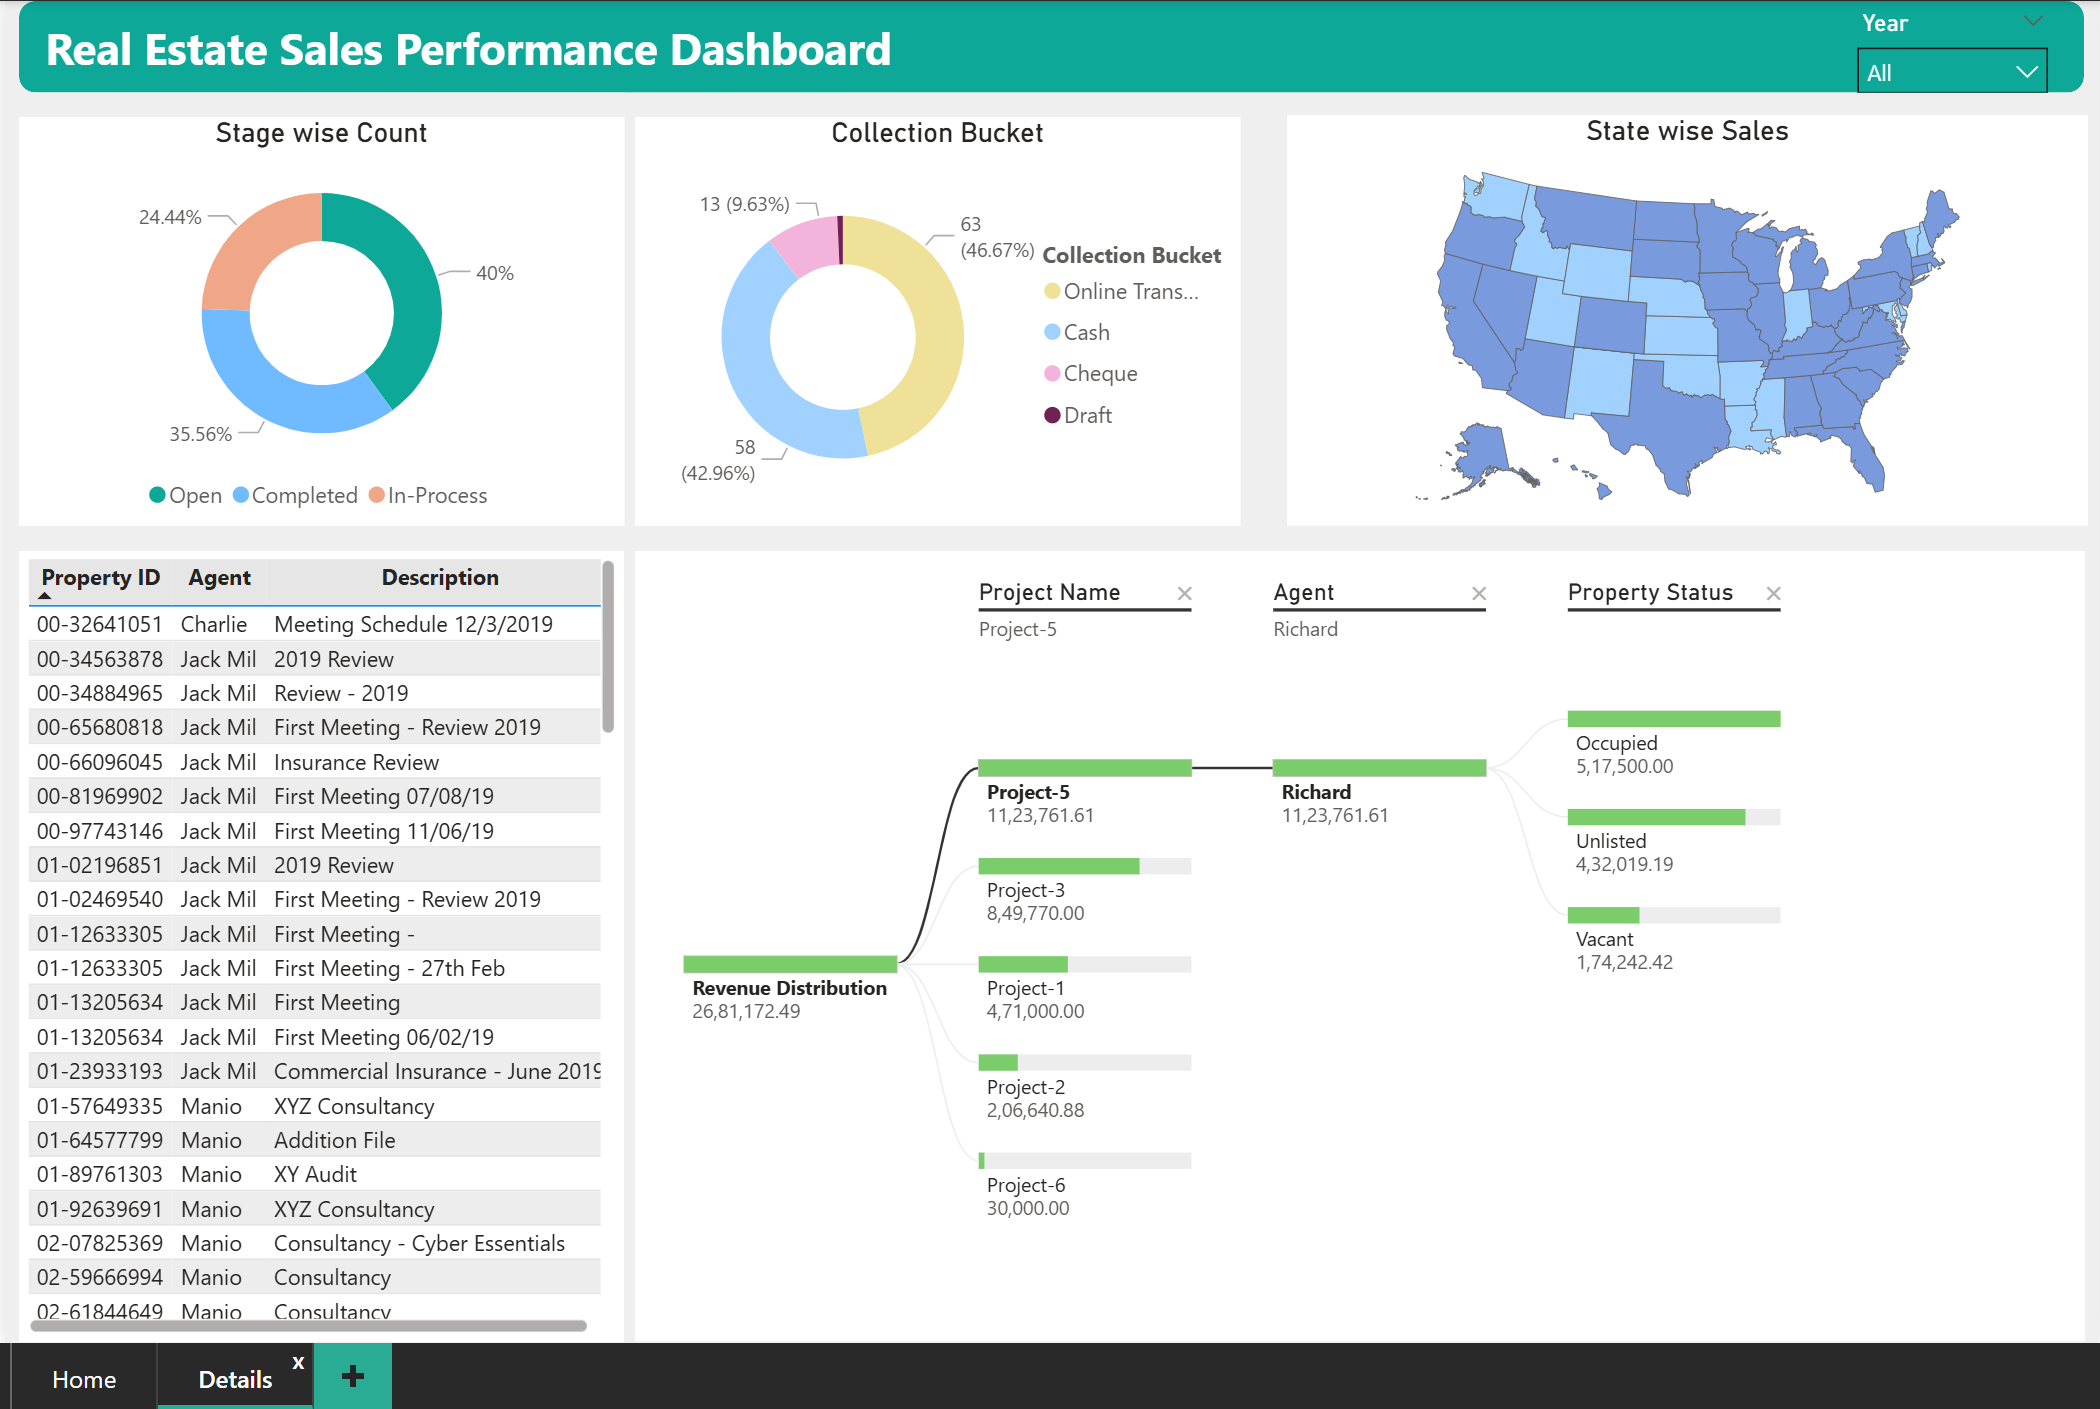

The page's visual inventory and layout, read from the dashboard file:
{"tool":"powerbi","page":{"name":"Details","canvas":[1280,820],"ordinal":1},"visuals":[{"type":"shape","box":[9.1,0,1261.8,55.9],"z":0},{"type":"textbox","box":[19.5,5.2,539.8,45.5],"z":1000},{"type":"slicer","fields":{"Values":["Date Table.Year"]},"box":[1121.9,0,136.4,56.1],"z":2000},{"type":"shapeMap","title":"State wise Sales","fields":{"Category":["Real Estate Data.State"],"Value":["Real Estate Data.Total Sales"]},"box":[782.8,70.1,489.6,251.2],"z":3000},{"type":"donutChart","title":"Stage wise Count","fields":{"Category":["Real Estate Data.Stage Name"],"Y":["CountNonNull(Real Estate Data.Stage Name)"]},"box":[8.9,71.4,370,250],"z":4000},{"type":"donutChart","title":"Collection Bucket","fields":{"Category":["Real Estate Data.Collection Bucket"],"Y":["CountNonNull(Real Estate Data.Account Name)"]},"box":[385,71.4,370,250],"z":5000},{"type":"tableEx","fields":{"Values":["Real Estate Data.Property ID","Real Estate Data.Agent","Real Estate Data.Description"]},"box":[8.9,336.6,369.7,483.2],"z":6000},{"type":"decompositionTreeVisual","fields":{"Analyze":["Sum(Real Estate Data.Revenue)"],"ExplainBy":["Real Estate Data.Project Name","Real Estate Data.Agent","Real Estate Data.Property Status"]},"box":[385,336.6,886.1,483.2],"z":7000}]}

Visuals, with their boxes on the page's 1280x820 design canvas (x1, y1, x2, y2). These are canvas units, not pixel positions in the 2100x1409 screenshot, which may show the page scaled, cropped or inside an application window:
shape: pyautogui.locateOnScreen(9, 0, 1271, 56)
textbox: pyautogui.locateOnScreen(20, 5, 559, 51)
slicer - Date Table.Year: pyautogui.locateOnScreen(1122, 0, 1258, 56)
"State wise Sales" shapeMap: pyautogui.locateOnScreen(783, 70, 1272, 321)
"Stage wise Count" donutChart: pyautogui.locateOnScreen(9, 71, 379, 321)
"Collection Bucket" donutChart: pyautogui.locateOnScreen(385, 71, 755, 321)
tableEx - Real Estate Data.Property ID x Real Estate Data.Agent: pyautogui.locateOnScreen(9, 337, 379, 820)
decompositionTreeVisual - Sum(Real Estate Data.Revenue) x Real Estate Data.Project Name: pyautogui.locateOnScreen(385, 337, 1271, 820)
